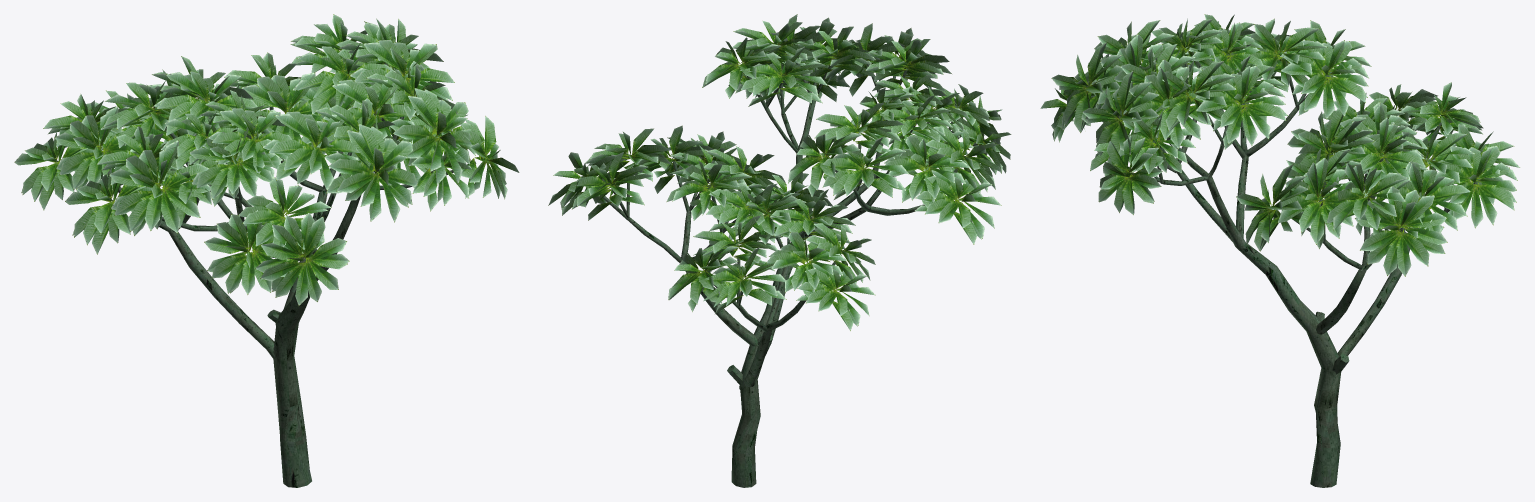
Rendered from tree-optimized.glb.
3 views of the same model, side by side, from view 1: azimuth 30°, elevation 25°; view 2: azimuth 150°, elevation 25°; view 3: azimuth 270°, elevation 25° (orthographic). The views are drawn at different scales.
Visible parts, largest first — view 1: Object_4, Object_5, Object_6, Object_8, Object_9, Object_10, Object_7; view 2: Object_7, Object_4, Object_8, Object_5, Object_6, Object_10, Object_9; view 3: Object_7, Object_5, Object_8, Object_10, Object_4, Object_9, Object_6.
Part boxes in pixels (left/top/right/bottom): Object_4: left=76, top=61, right=470, bottom=254; Object_5: left=74, top=18, right=519, bottom=293; Object_6: left=96, top=46, right=362, bottom=305; Object_8: left=39, top=22, right=498, bottom=210; Object_9: left=14, top=42, right=417, bottom=272; Object_10: left=99, top=62, right=476, bottom=487; Object_7: left=22, top=14, right=436, bottom=201; Object_7: left=553, top=48, right=952, bottom=325; Object_4: left=670, top=14, right=1001, bottom=239; Object_8: left=548, top=21, right=910, bottom=326; Object_5: left=635, top=21, right=1006, bottom=238; Object_6: left=666, top=64, right=1011, bottom=307; Object_10: left=603, top=57, right=979, bottom=487; Object_9: left=601, top=31, right=1000, bottom=330; Object_7: left=1139, top=14, right=1516, bottom=276; Object_5: left=1090, top=21, right=1403, bottom=238; Object_8: left=1106, top=41, right=1514, bottom=266; Object_10: left=1102, top=51, right=1477, bottom=487; Object_4: left=1051, top=18, right=1374, bottom=184; Object_9: left=1061, top=19, right=1516, bottom=235; Object_6: left=1040, top=18, right=1519, bottom=195.
Size of the model in its own units: 211 by 231 by 230.
Materials: 3 (2 with a texture image).
